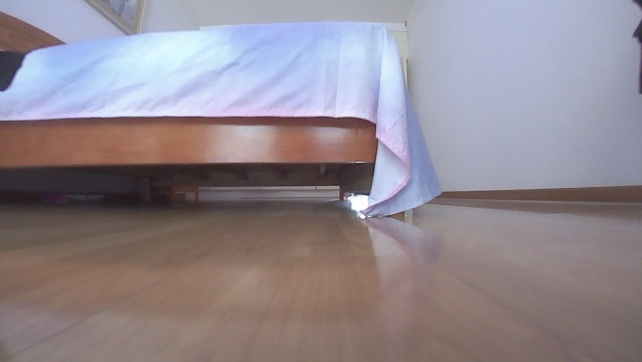bed1: (0, 10, 444, 221)
